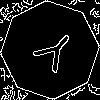Y: (25, 25, 81, 82)
